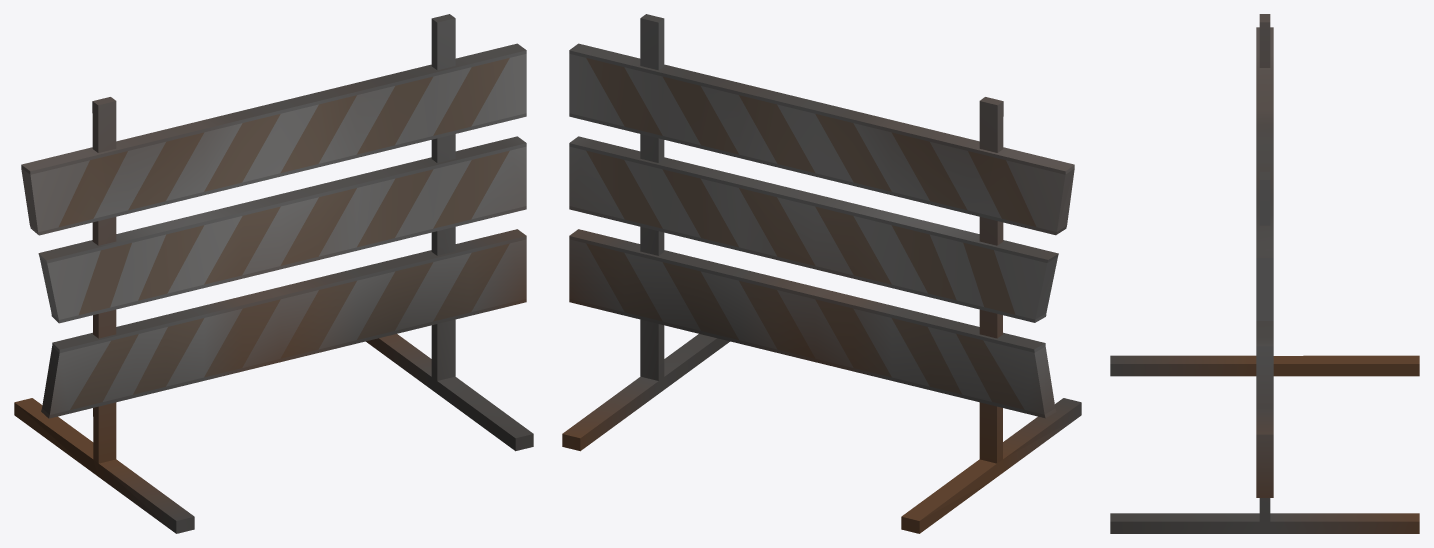
Rendered from traffic_barrier_wreck.glb.
3 renders of one model, left to right at view 1: azimuth 30°, elevation 25°; view 2: azimuth 150°, elevation 25°; view 3: azimuth 270°, elevation 25°, orthographic. The views are drawn at different scales.
Visible parts, largest first — view 1: traffic_barrier_wreck; view 2: traffic_barrier_wreck; view 3: traffic_barrier_wreck.
Part boxes in pixels (x1,y1,x2,y2): traffic_barrier_wreck: (14, 14, 533, 533); traffic_barrier_wreck: (562, 14, 1081, 533); traffic_barrier_wreck: (1110, 14, 1419, 533).
Size of the model in its own units: 1.56 by 1.11 by 0.8806.
